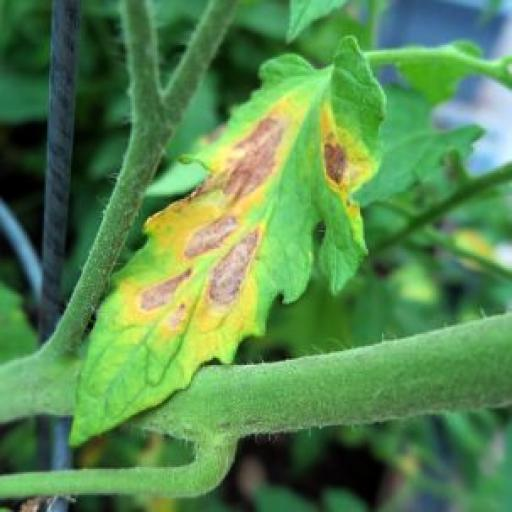disease_tomato: (73, 30, 387, 446)
